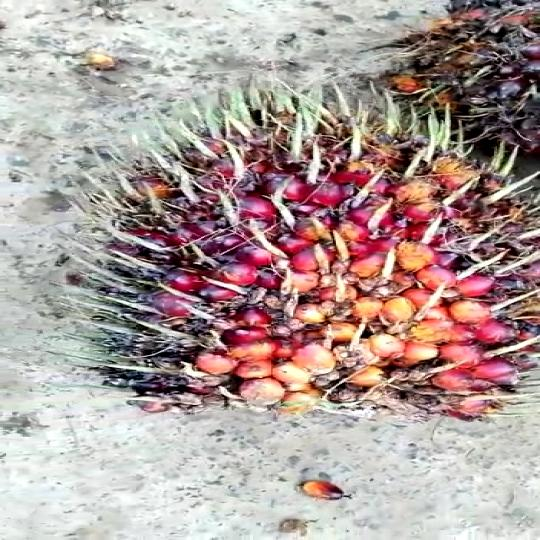masak: (50, 73, 540, 448)
